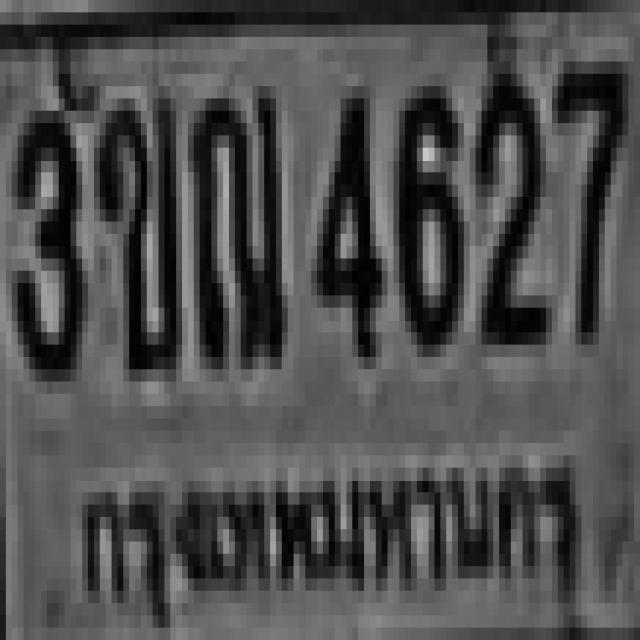11KhorKhai: (94, 86, 176, 369)
2: (473, 61, 543, 332)
28NorNen: (188, 74, 282, 357)
3: (9, 98, 79, 370)
4: (311, 80, 376, 351)
6: (393, 73, 458, 344)
7: (552, 50, 622, 332)
Bangkok: (70, 427, 586, 614)
